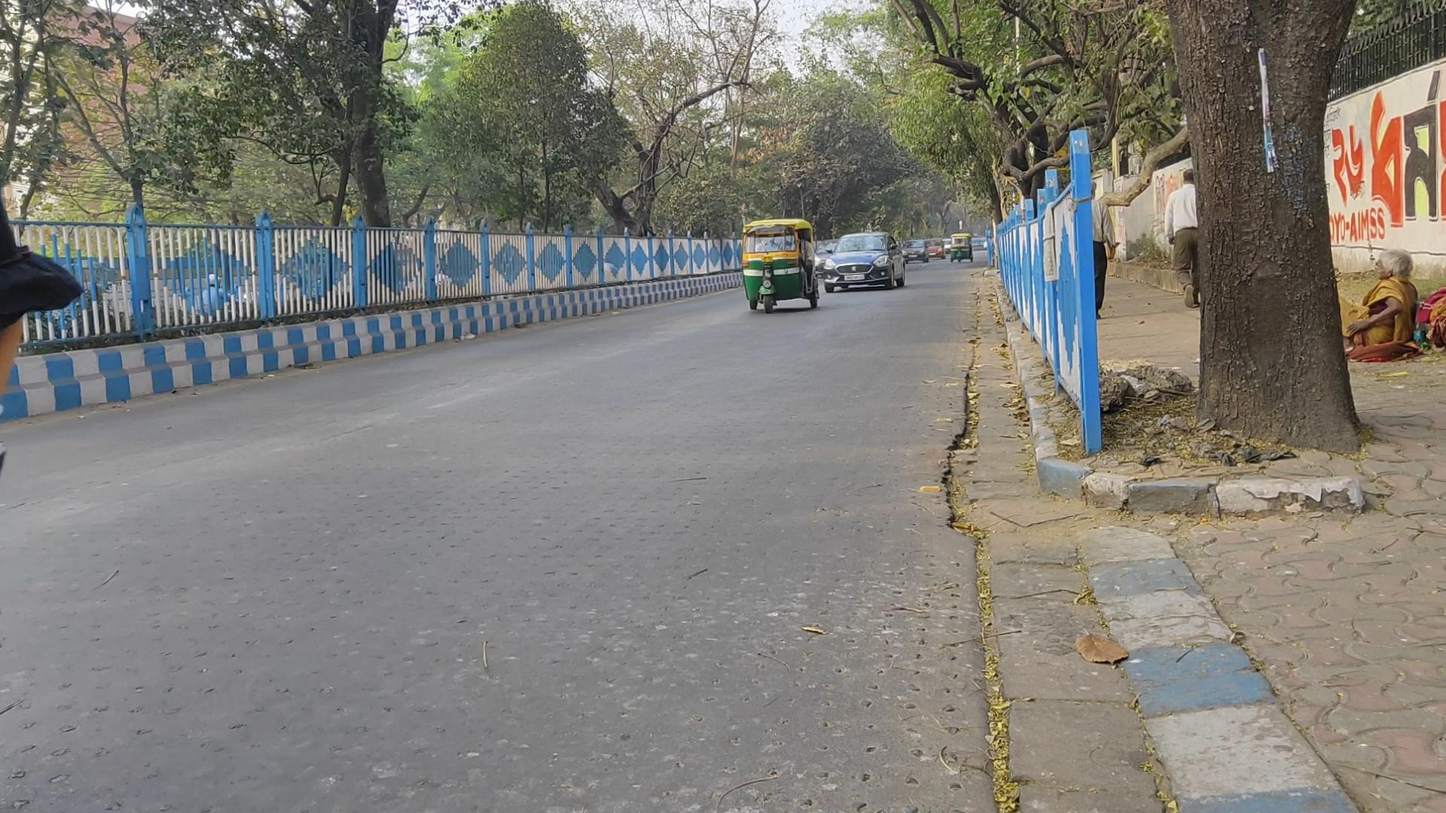Auto: (738, 218, 818, 314), (950, 232, 974, 263)
car: (825, 230, 905, 296), (901, 239, 930, 263), (926, 238, 946, 260)
